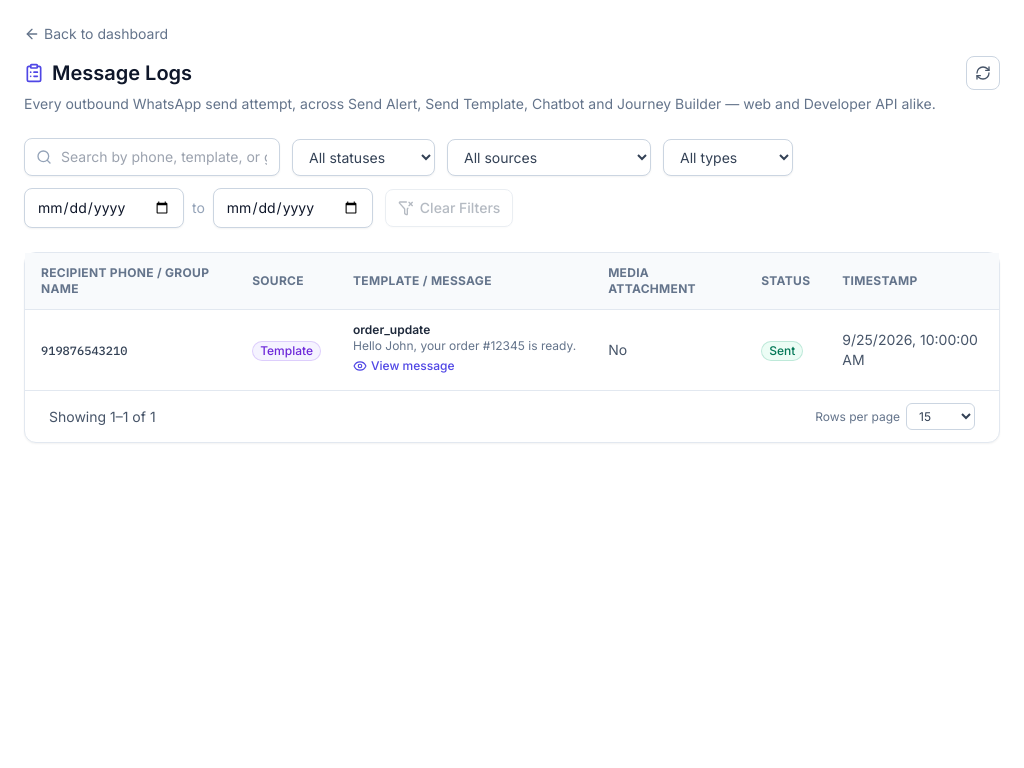
Test: Message Logs list › retry after a failure loads the detail
Click the button with aria-label "View message 1" at (404,366), box [353, 358, 454, 374]
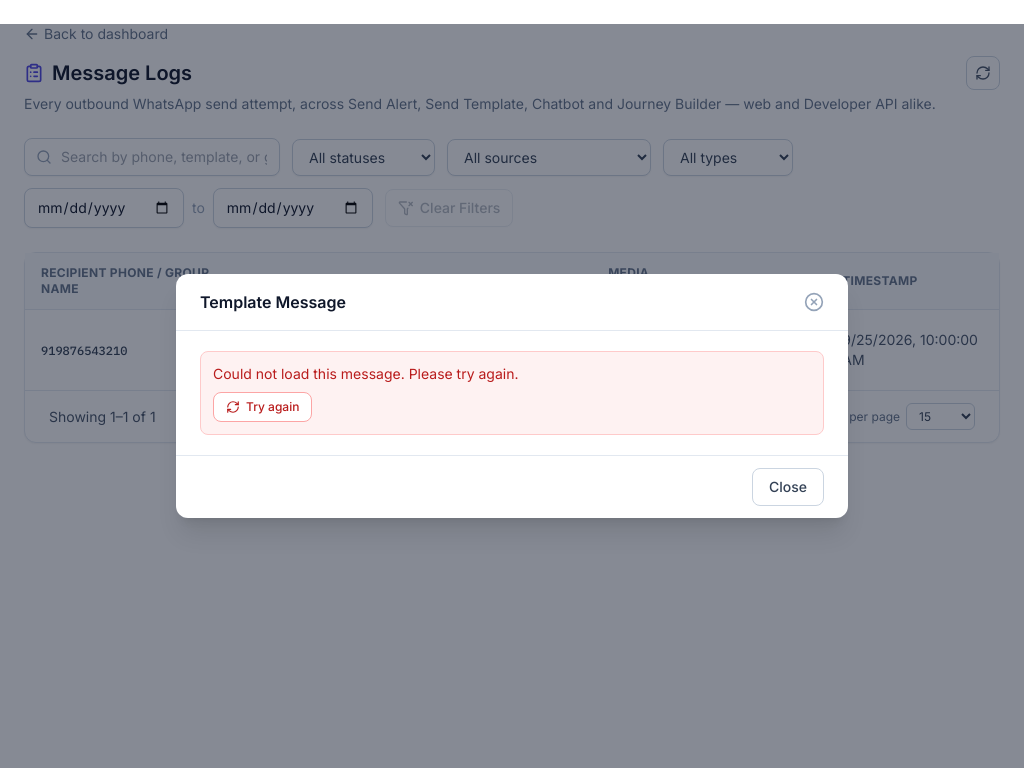
Click the button "Try again" at (263,407), box [213, 392, 312, 422]
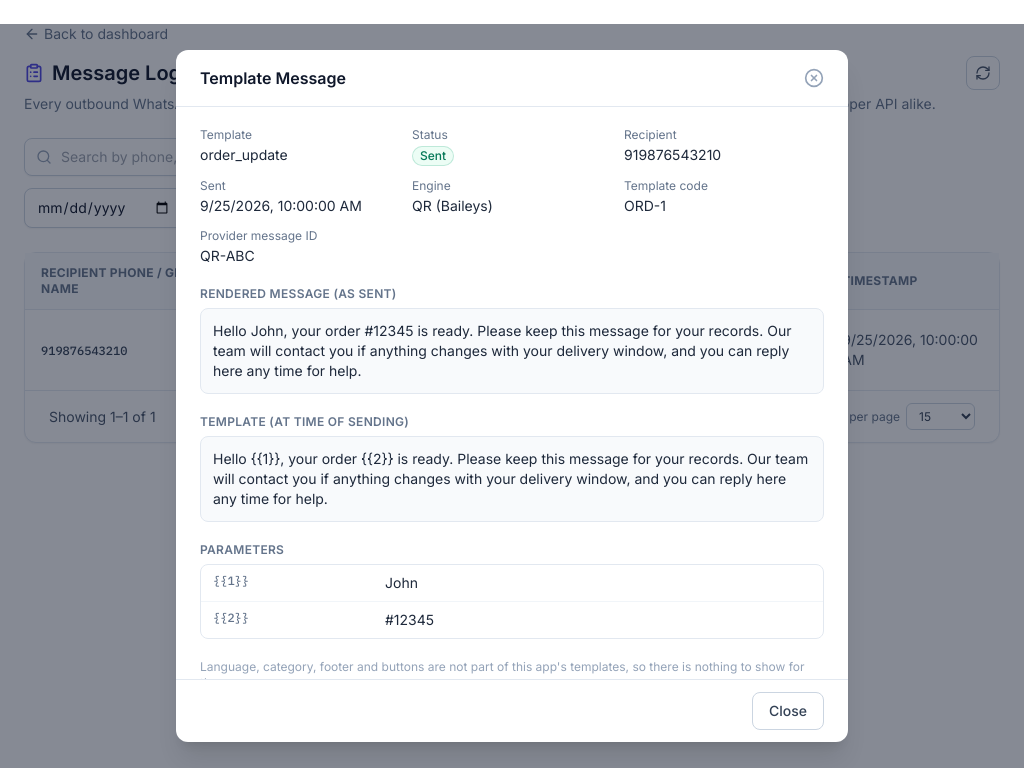
Result: the text with test id "rendered-message" is shown at [200, 308, 824, 394]
